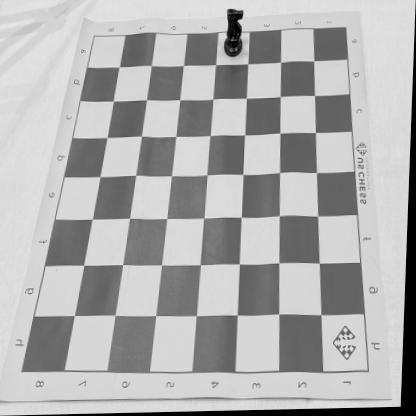black-knight: (223, 8, 247, 60)
